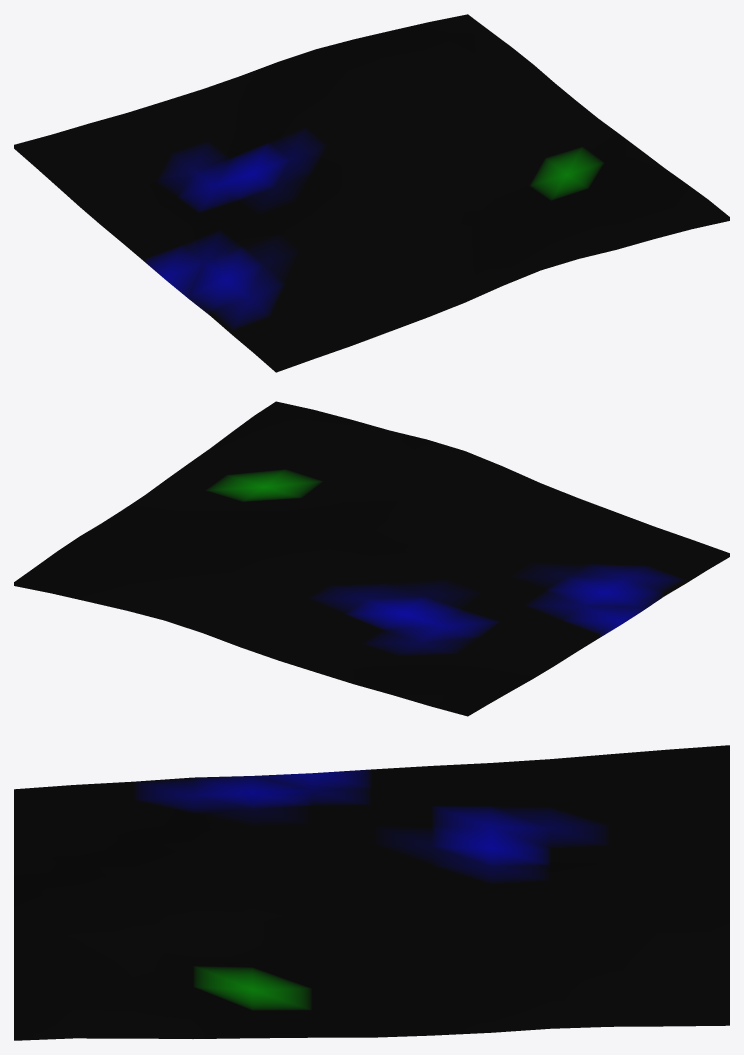
Rendered from coast_13_1.glb.
The picture shows the model from 3 angles, top to bottom: view 1: azimuth 30°, elevation 25°; view 2: azimuth 150°, elevation 25°; view 3: azimuth 270°, elevation 25°; orthographic projection. The views are drawn at different scales.
Visible parts, largest first — view 1: terrain; view 2: terrain; view 3: terrain.
Part boxes in pixels (bbox=[...]): terrain: bbox=[14, 14, 729, 372]; terrain: bbox=[14, 401, 729, 716]; terrain: bbox=[14, 745, 729, 1040].
Size of the model in its own units: 192 by 24.59 by 192.
